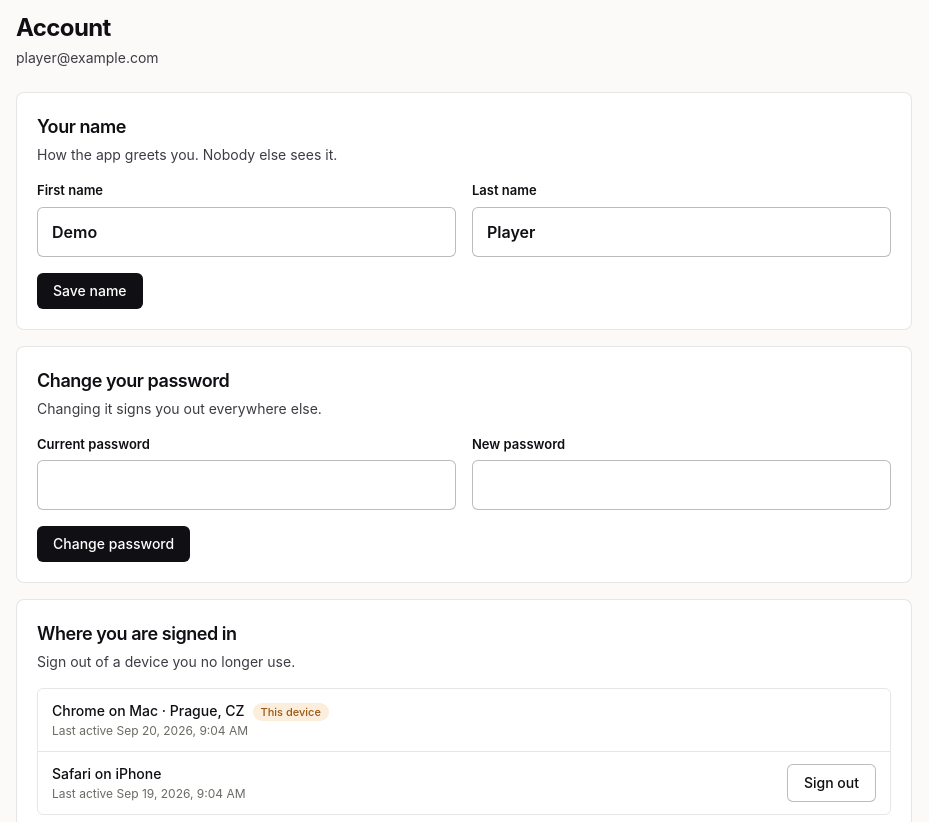
Test case: AccountPage › changes the password, and says so plainly when the current one is wrong
In the password field labelled "Current password": [246, 485] box [37, 460, 456, 510], type "wrong"
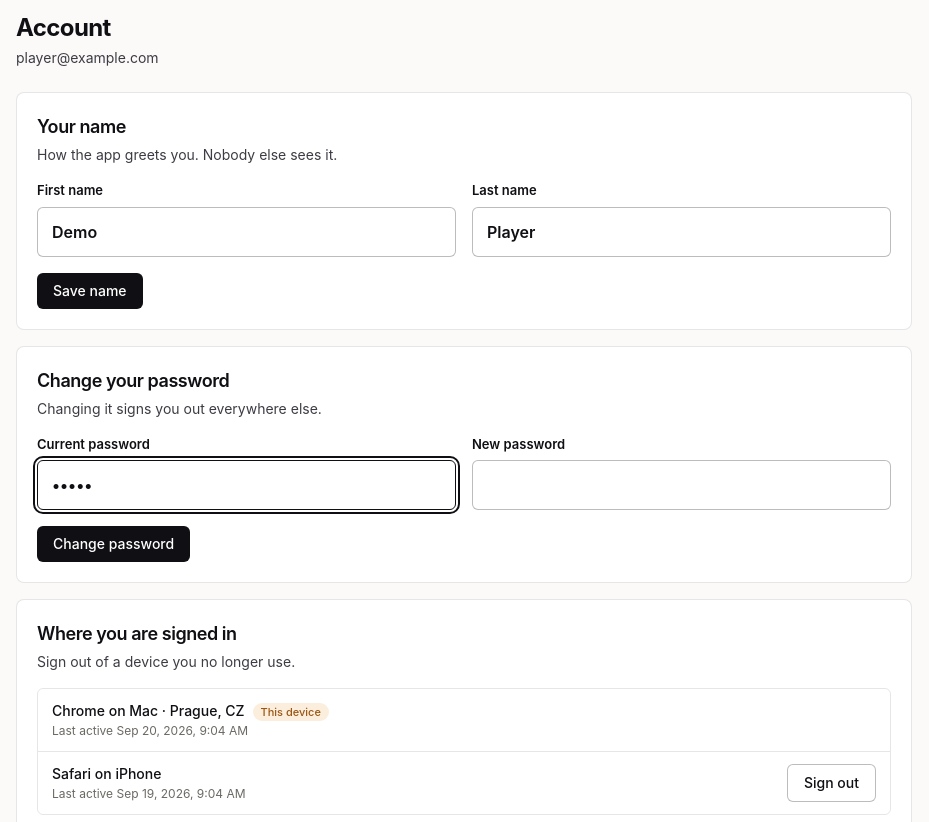
In the password field labelled "New password": [682, 485] box [472, 460, 891, 510], type "a new long password"
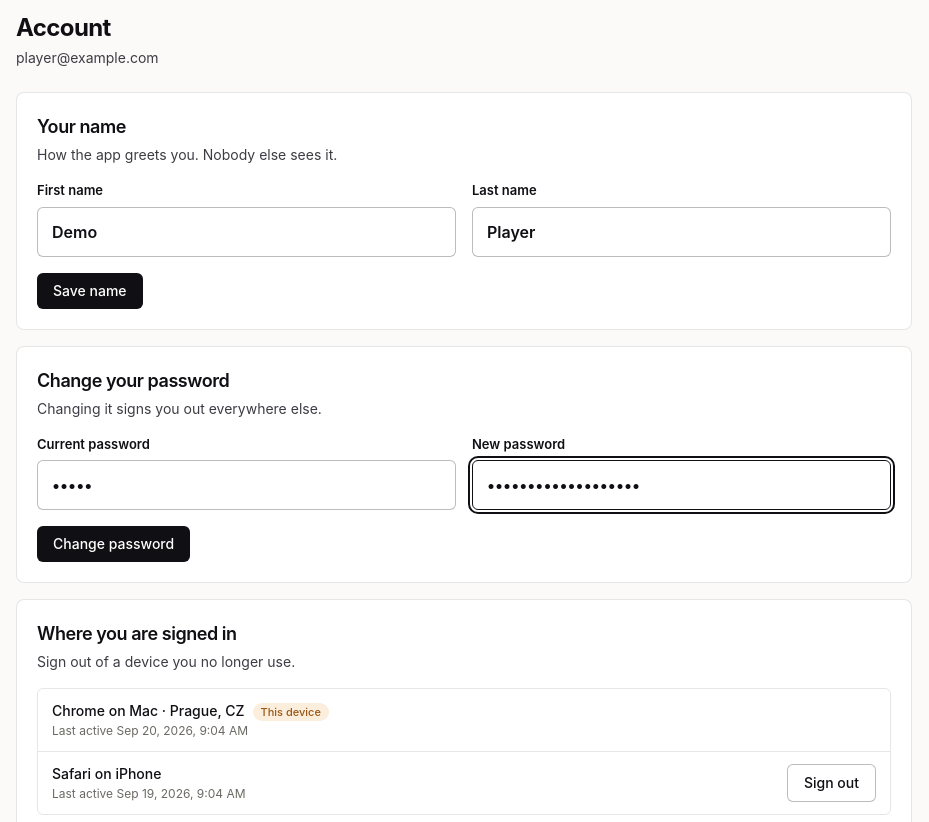
Click the button "Change password": [114, 544] box [37, 526, 190, 562]
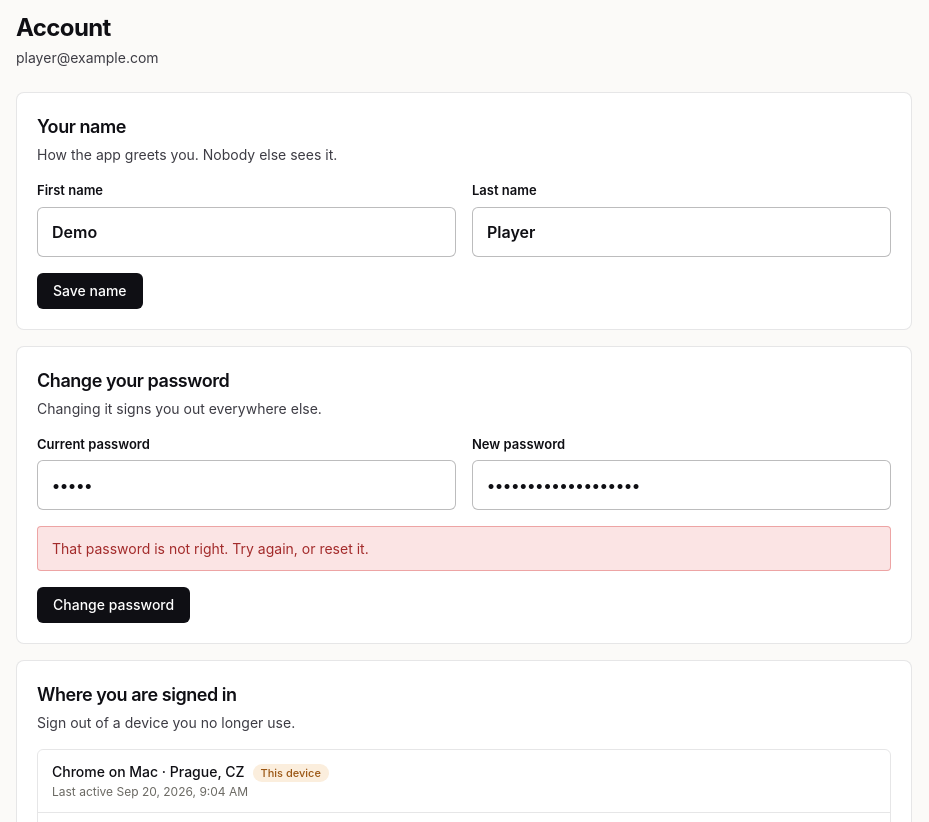
Expected: the message shows "not right", [52, 540, 369, 557]
In the password field labelled "Current password": [246, 485] box [37, 460, 456, 510], type "correct horse"
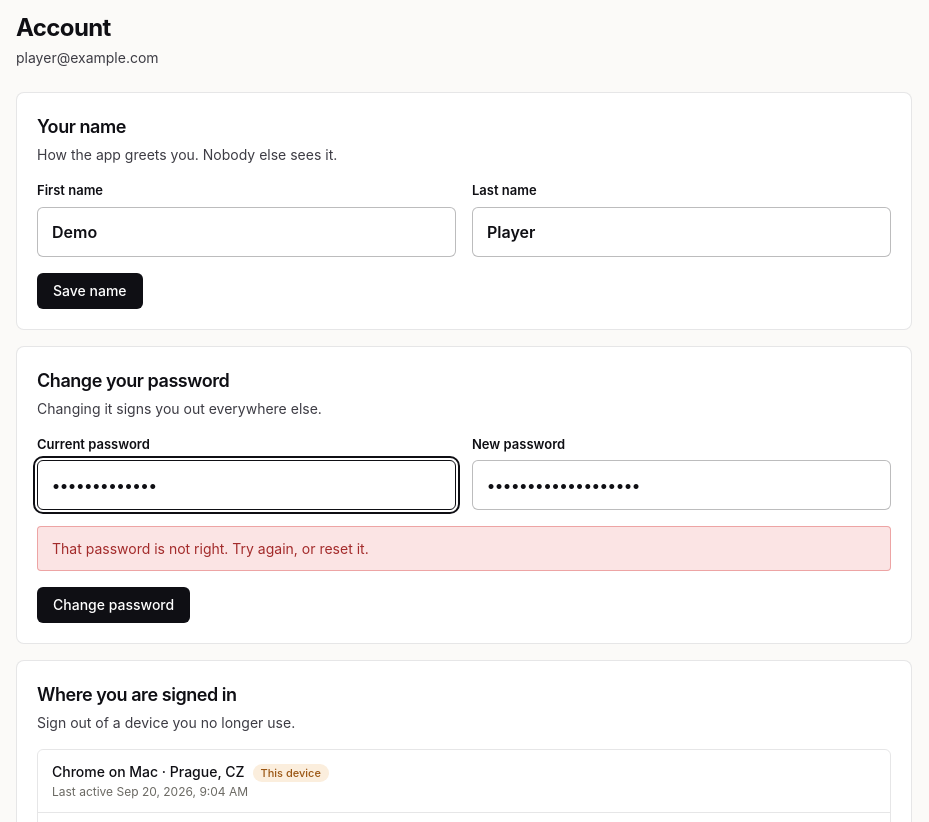
Click the button "Change password": [114, 605] box [37, 587, 190, 623]
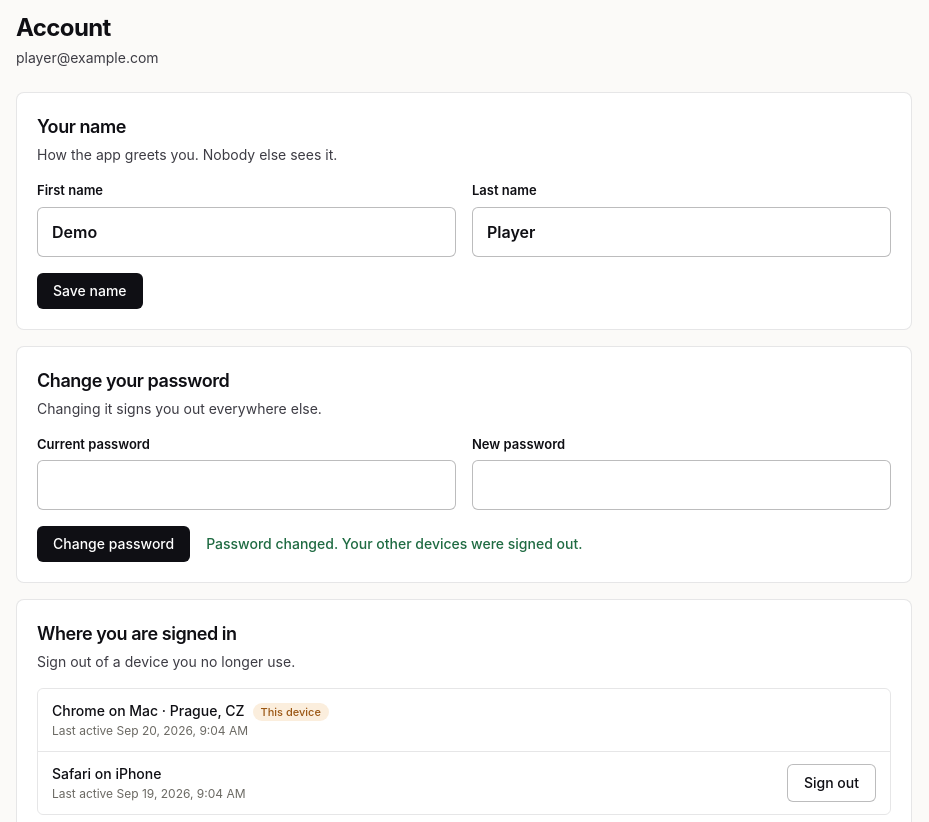
Expected: the text "Password changed. Your other devices were signed out." is shown, [206, 534, 582, 554]
